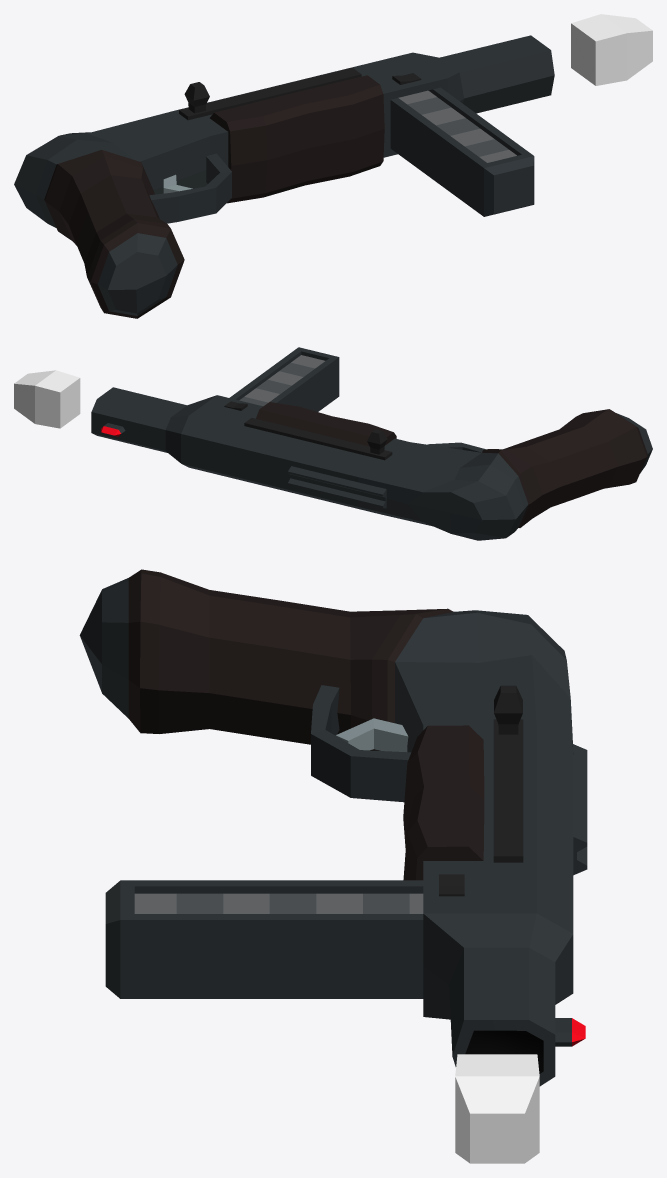
The model's file is WeaponsPack.fbx.
3 renders of one model, top to bottom at view 1: azimuth 30°, elevation 25°; view 2: azimuth 150°, elevation 25°; view 3: azimuth 270°, elevation 25°, orthographic. The views are drawn at different scales.
Visible parts, largest first — view 1: SubMachineGun_0, SubMachineGunClip_0, Bullet_0; view 2: SubMachineGun_0, SubMachineGunClip_0, Bullet_0; view 3: SubMachineGun_0, SubMachineGunClip_0, Bullet_0.
Boxes of the visible parts, left/top/right/bottom form: SubMachineGun_0: left=14, top=35, right=554, bottom=318; SubMachineGunClip_0: left=390, top=87, right=534, bottom=216; Bullet_0: left=571, top=14, right=652, bottom=85; SubMachineGun_0: left=91, top=387, right=652, bottom=540; SubMachineGunClip_0: left=229, top=347, right=339, bottom=411; Bullet_0: left=14, top=370, right=80, bottom=428; SubMachineGun_0: left=79, top=569, right=587, bottom=1086; SubMachineGunClip_0: left=105, top=880, right=423, bottom=998; Bullet_0: left=455, top=1054, right=539, bottom=1163.
Size of the model in its own units: 0.5435 by 0.0852 by 0.2223.
1 material, 1 textured.
